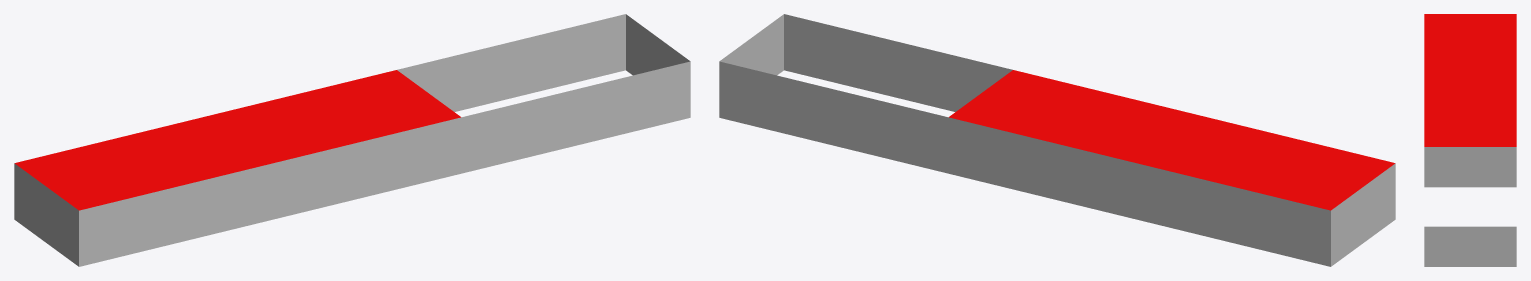
The model's file is Agua.fbx.
The picture shows the model from 3 angles, left to right: view 1: azimuth 30°, elevation 25°; view 2: azimuth 150°, elevation 25°; view 3: azimuth 270°, elevation 25°; orthographic projection. The views are drawn at different scales.
Parts seen in each view (by area): view 1: Object002; view 2: Object002; view 3: Object002.
Part boxes in pixels (x1,y1,x2,y2): Object002: (14,14,690,266); Object002: (719,14,1395,266); Object002: (1424,14,1516,266).
Size of the model in its own units: 9677 by 852 by 1776.
